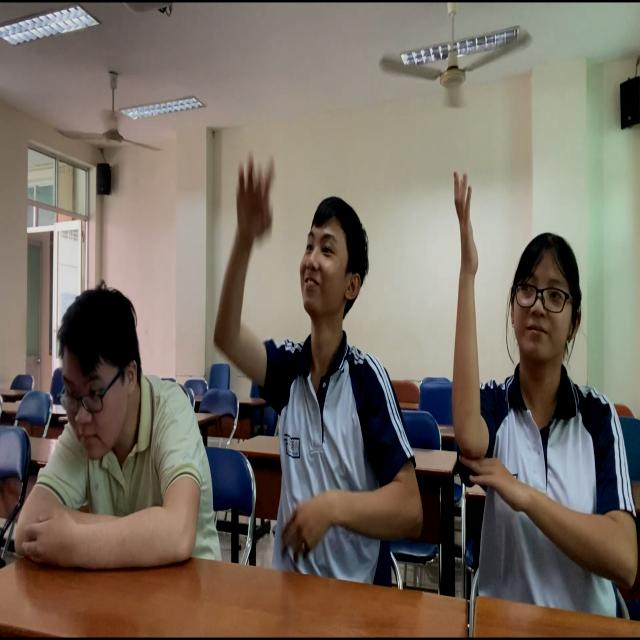raise_hand: (449, 171, 639, 613)
